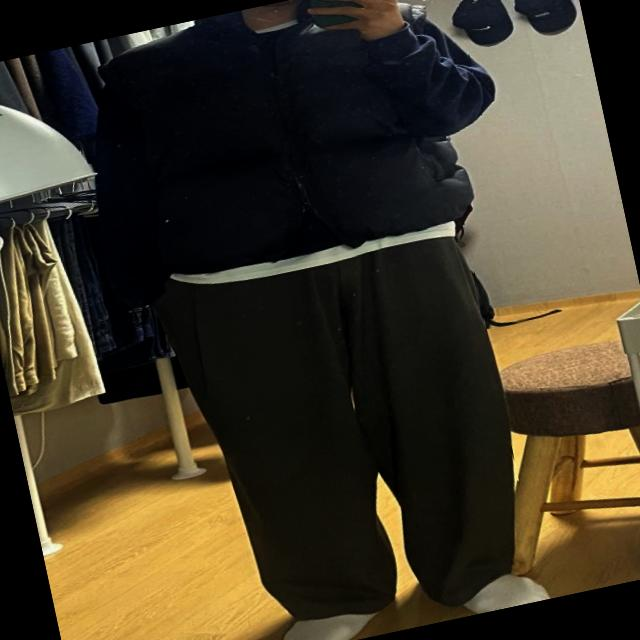cottonpants: (150, 209, 545, 640), (103, 0, 470, 284)
